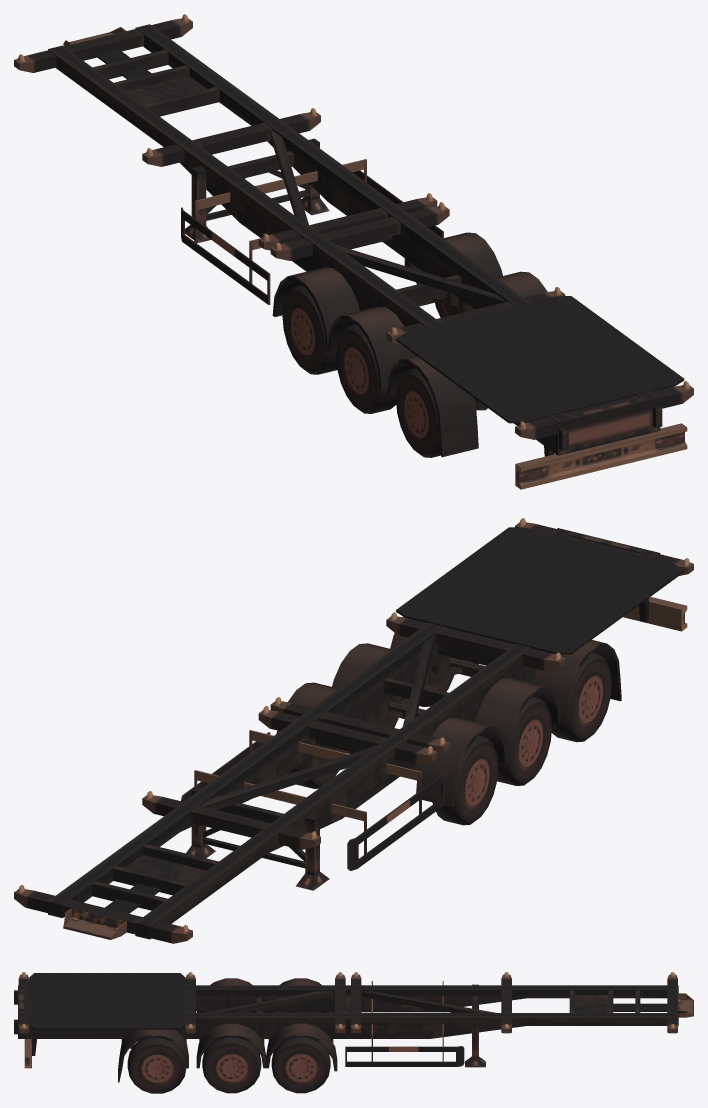
Rendered from trailer.FBX.
3 renders of one model, top to bottom at view 1: azimuth 30°, elevation 25°; view 2: azimuth 150°, elevation 25°; view 3: azimuth 270°, elevation 25°, orthographic. The views are drawn at different scales.
Visible parts, largest first — view 1: Body; view 2: Body; view 3: Body.
Boxes of the visible parts, x1,y1,x2,y2 form: Body: (14, 14, 693, 489); Body: (14, 518, 693, 943); Body: (14, 972, 693, 1093).
Size of the model in its own units: 97.75 by 54.89 by 495.
